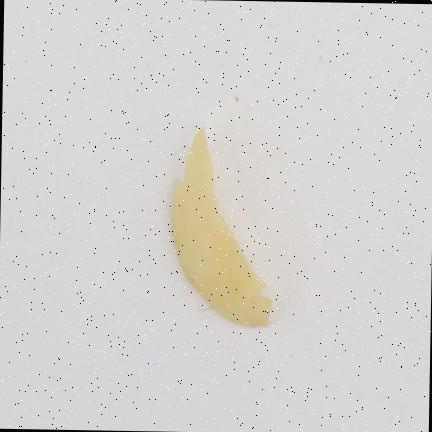parchment: (173, 129, 271, 324)
